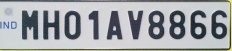character: (20, 8, 38, 40), (63, 10, 82, 40), (42, 8, 59, 40), (126, 9, 144, 39), (106, 9, 123, 40), (168, 10, 186, 39), (147, 9, 164, 39), (189, 9, 206, 39), (210, 9, 227, 39), (87, 9, 99, 40)
